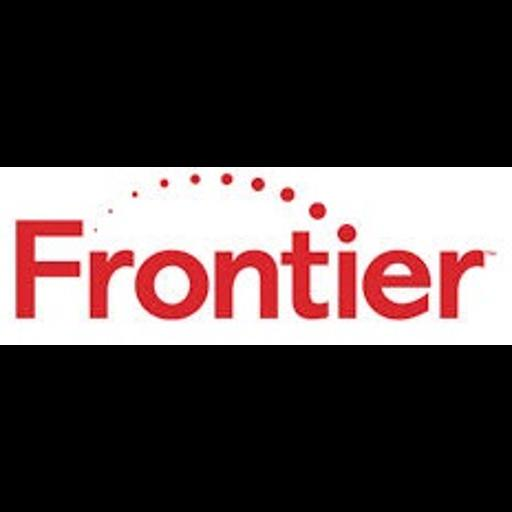Frontier Communications: (0, 167, 512, 345)
